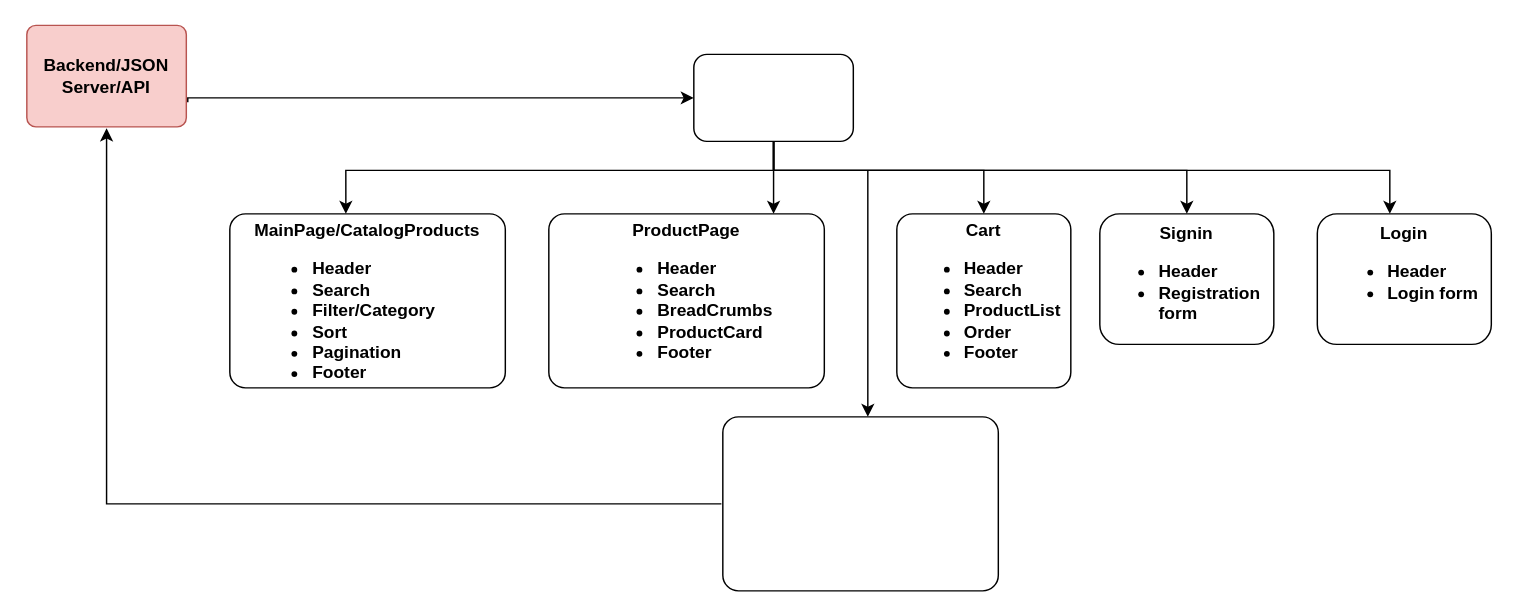
Some shapes in this 1517 by 616 pixel diagram are drawn without their labels. The shapes that lost their labels are listed below. From the top down, each one's centre as x and y in pixels, then its label:
At pixel 772 97: "App.js".
At pixel 859 503: "AdminDashboard Header Create/Editing product block ProductList".
